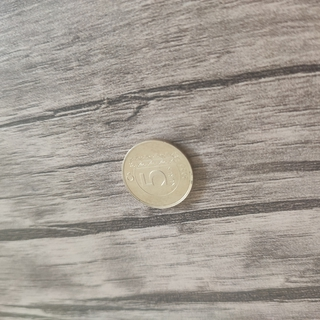5KURUS: (120, 138, 193, 209)
